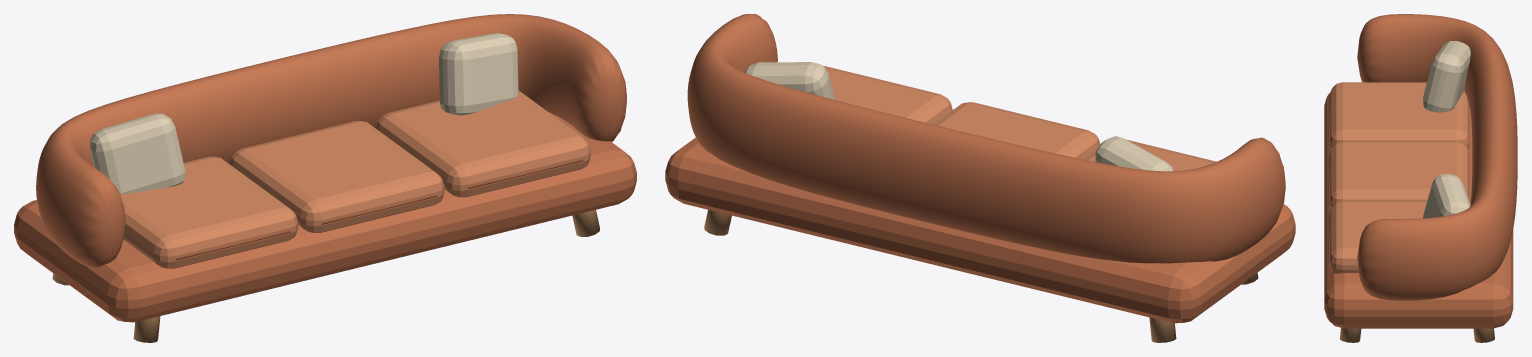
The model's file is TerracottaSofa.fbx.
3 renders of one model, left to right at view 1: azimuth 30°, elevation 25°; view 2: azimuth 150°, elevation 25°; view 3: azimuth 270°, elevation 25°, orthographic. The views are drawn at different scales.
Parts seen in each view (by area): view 1: TerracottaSofa; view 2: TerracottaSofa; view 3: TerracottaSofa.
Boxes of the visible parts, x1=… form: TerracottaSofa: x1=14, y1=14, x2=636, y2=342; TerracottaSofa: x1=665, y1=14, x2=1295, y2=342; TerracottaSofa: x1=1324, y1=14, x2=1517, y2=342.
Bounding box in the file's own units: 3.86 × 1.11 × 1.41.
